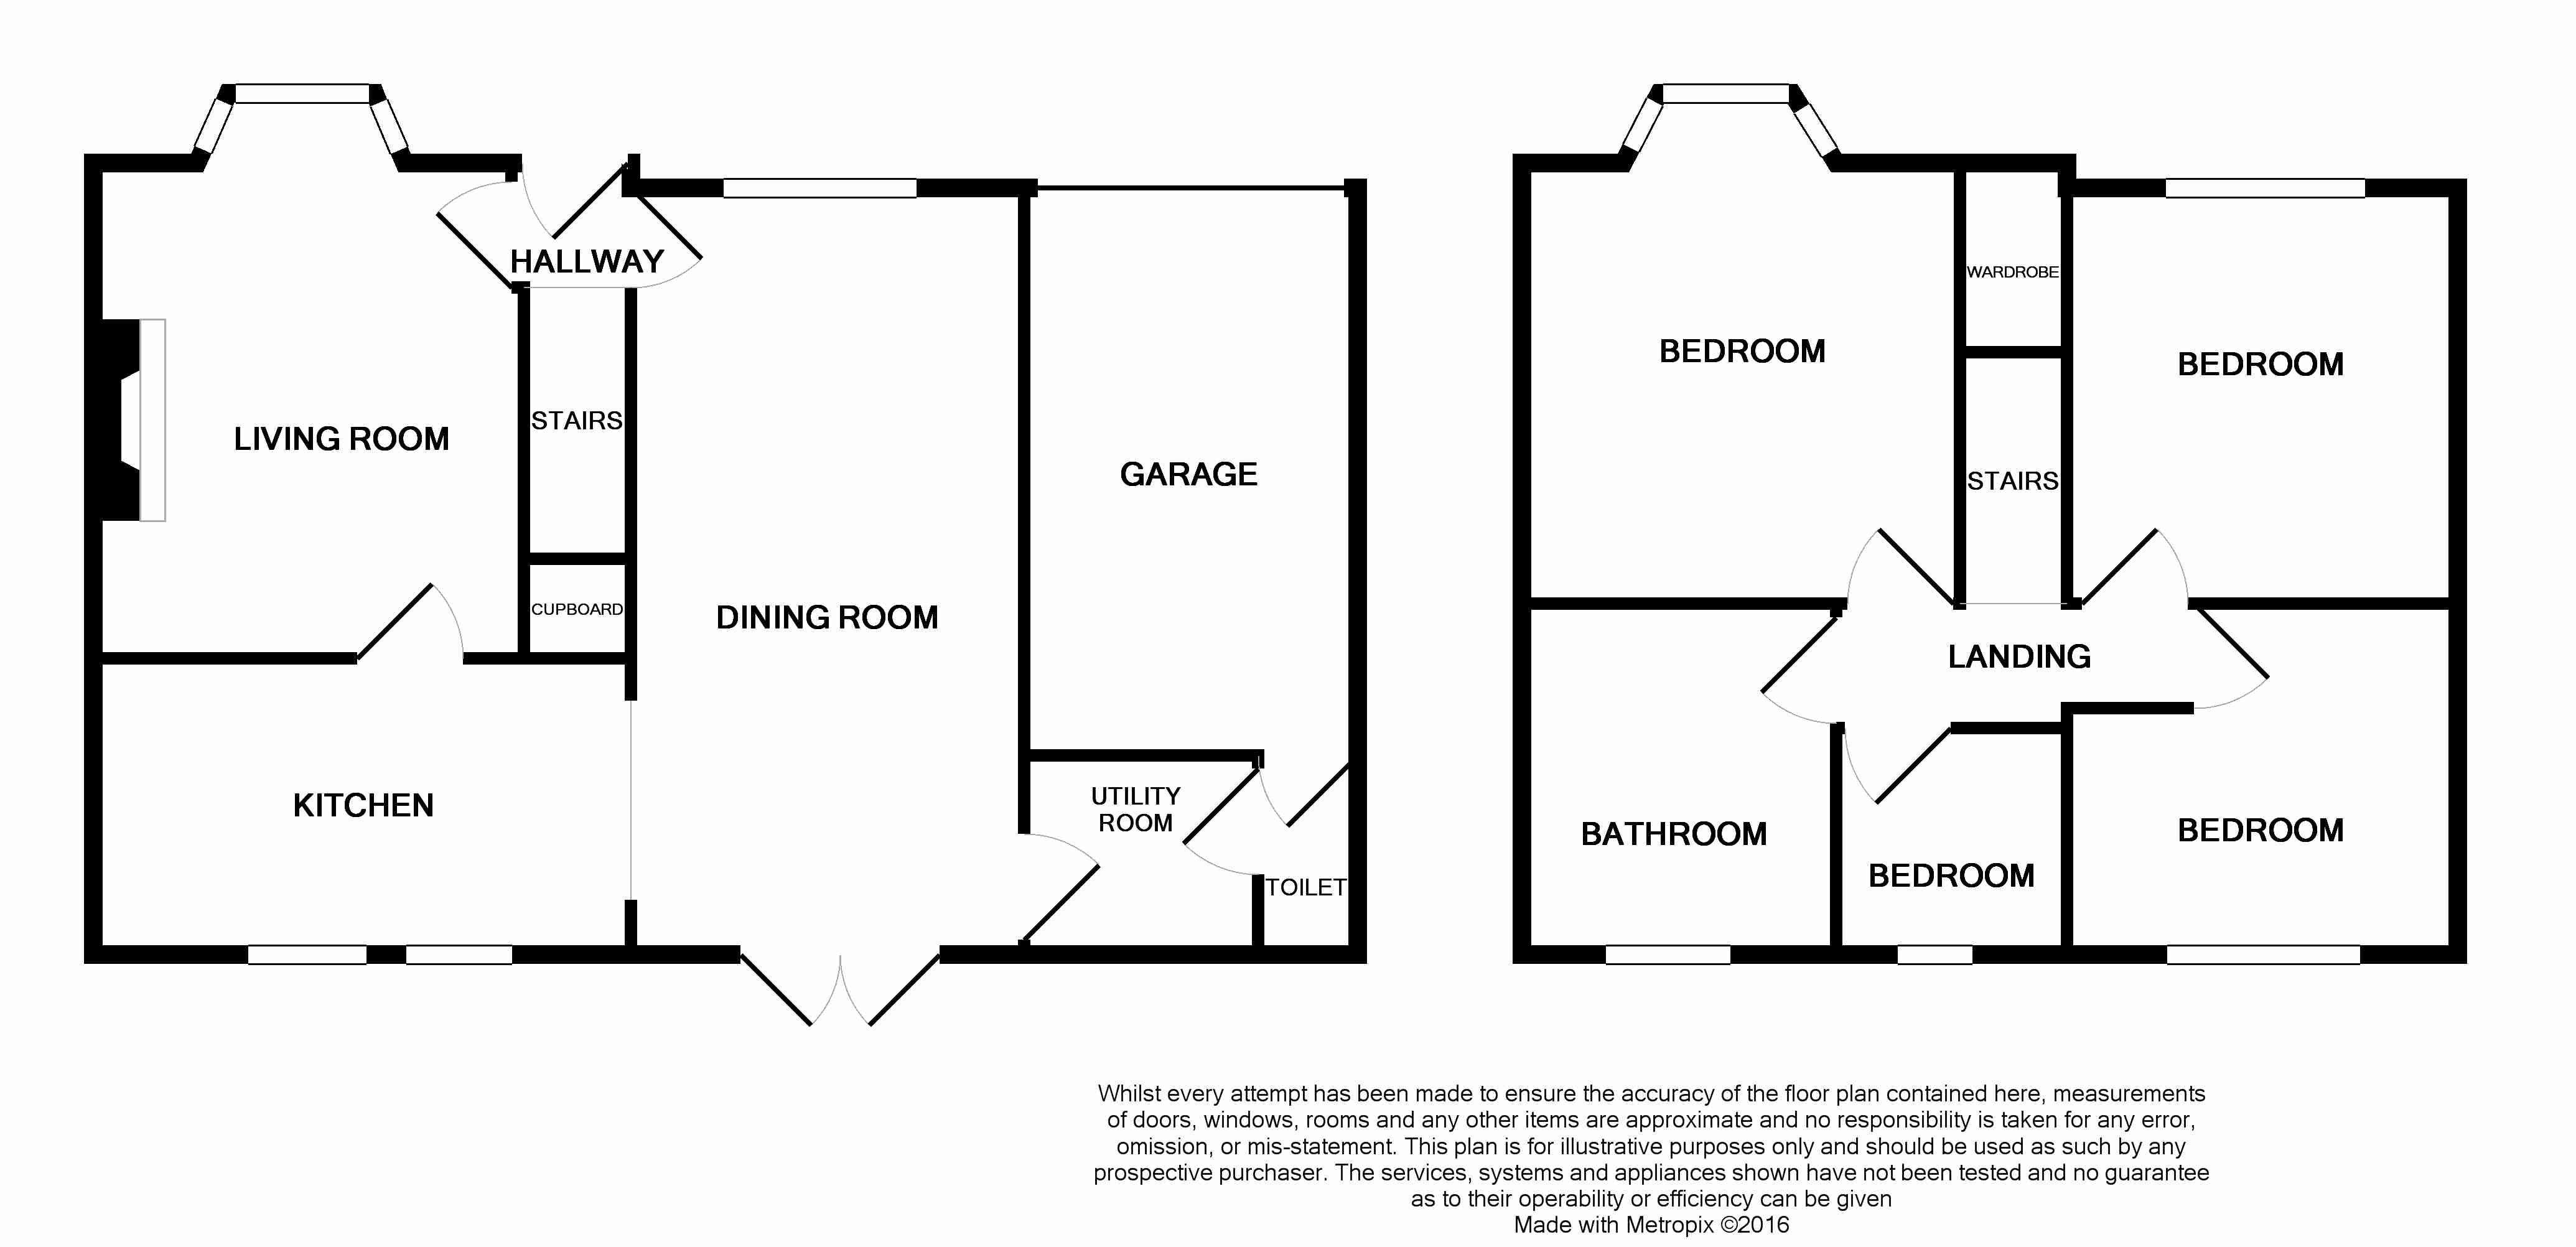wall: (1357, 200, 1370, 955), (623, 286, 639, 677), (105, 950, 749, 959), (1955, 161, 1966, 590), (2453, 187, 2458, 945), (2062, 169, 2070, 610), (87, 159, 94, 662), (1020, 196, 1025, 820), (1531, 603, 1842, 613), (87, 659, 97, 945), (1976, 945, 2164, 955), (97, 657, 370, 664), (917, 184, 1370, 187), (1531, 151, 1533, 955), (1730, 946, 1888, 955), (402, 156, 516, 164), (2192, 595, 2456, 598), (1030, 749, 1260, 752), (2065, 184, 2157, 192), (950, 945, 1360, 946), (527, 283, 529, 652), (1955, 726, 2075, 731), (2362, 955, 2456, 958), (1963, 352, 2072, 353), (623, 182, 724, 184)
